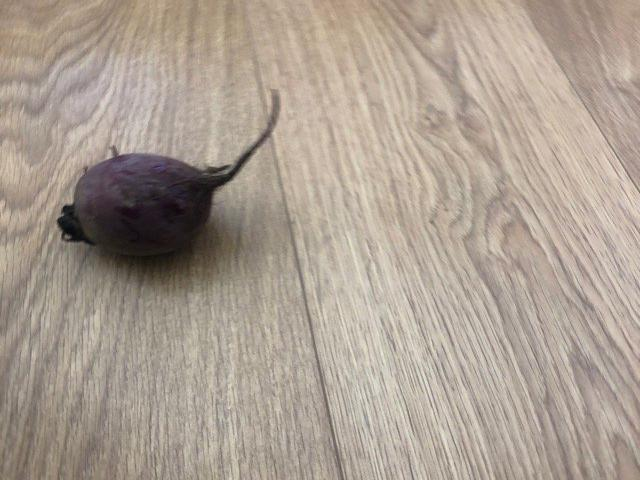beet: (61, 89, 284, 256)
